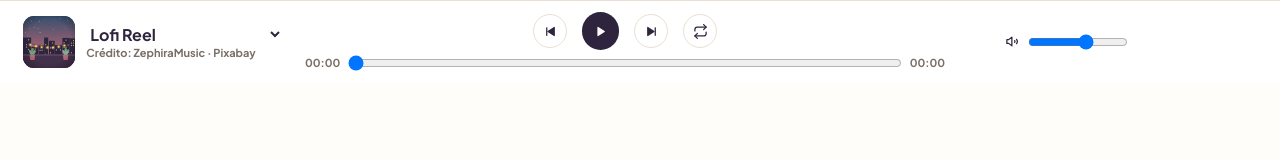
it: LofiPlayerBar › "Faixa anterior" na primeira faixa dá a volta pro fim do catálogo
Click the button named "Faixa anterior". click: (550, 31)
box: [533,14,567,48]
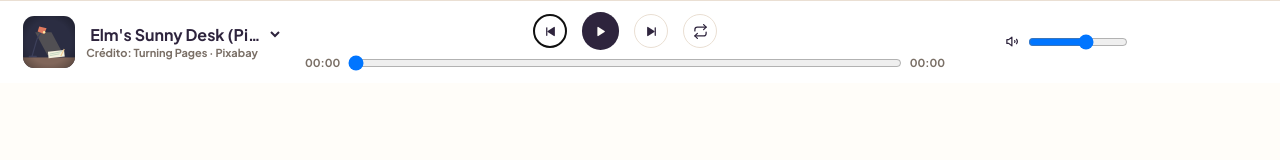
Expected: the dropdown named "Escolher faixa lo-fi" shows "Elm's Sunny Desk (Piano Lofi)", [86,23,283,46]
